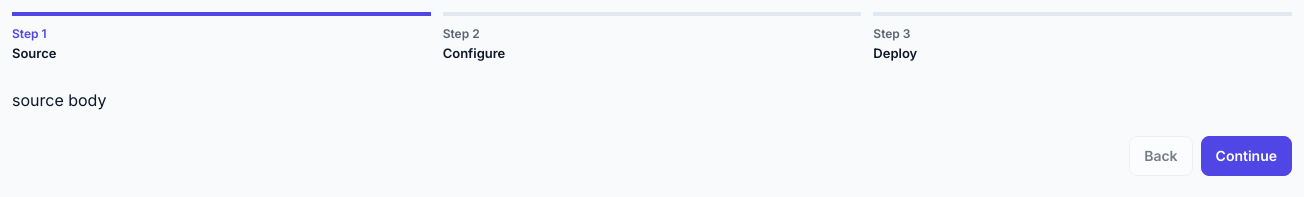
Test: StepWizard › lets you revisit reached steps but not jump ahead
Expected: the button "Step 3 Deploy" is disabled, 873,12 -> 1292,64
Click the button "Continue": (1246, 156) 1201,136 -> 1292,176
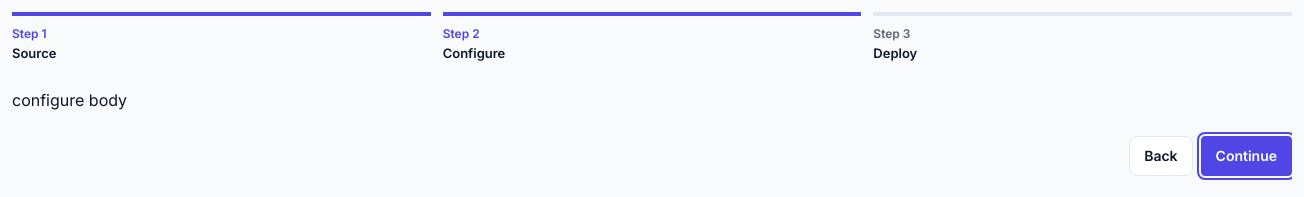
Click the button "Continue": (1246, 156) 1201,136 -> 1292,176
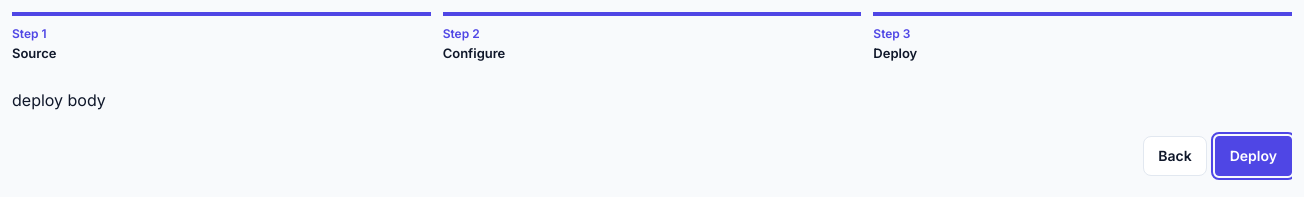
Result: the button "Step 3 Deploy" is marked as current at 873,12 -> 1292,64
Click the button "Step 1 Source": (34, 53) 12,12 -> 431,64
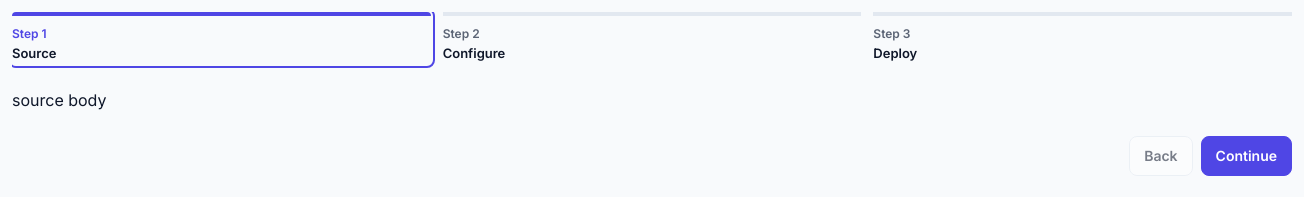
Result: the text "source body" is shown at 12,90 -> 106,110
Click the button "Step 3 Deploy": (895, 53) 873,12 -> 1292,64
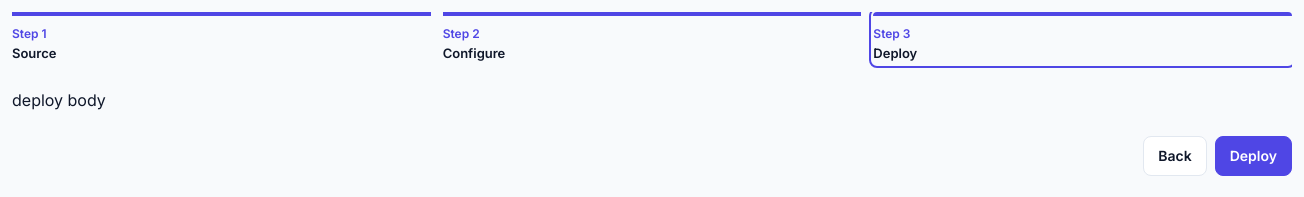
Result: the text "deploy body" is shown at 12,90 -> 106,110
